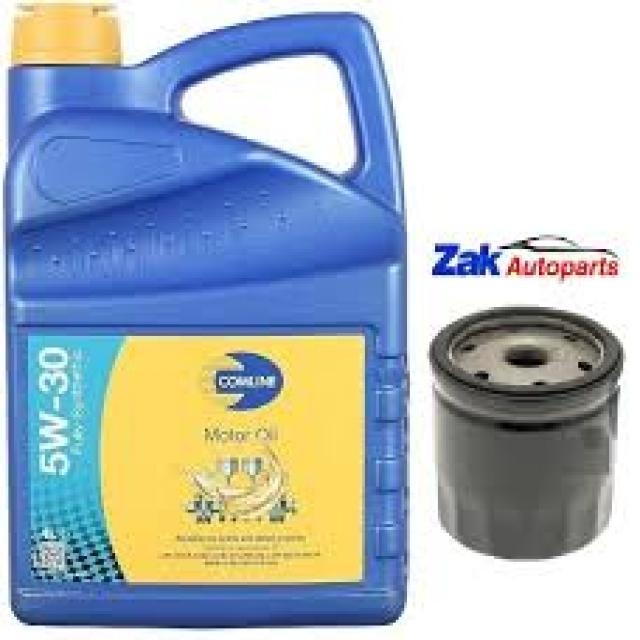motor_oil: (0, 0, 419, 628)
oil_filter: (429, 299, 631, 560)
